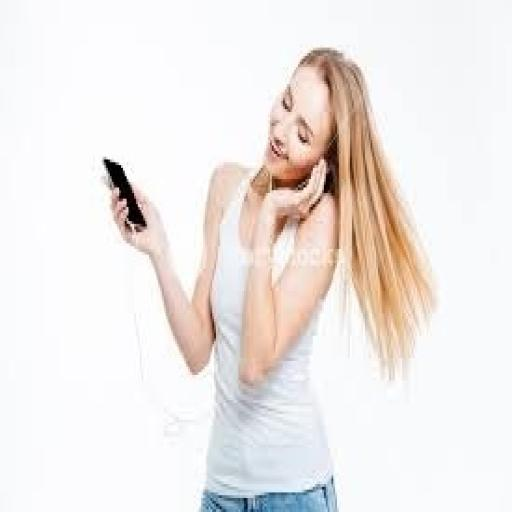listening_to_music: (104, 45, 440, 509)
